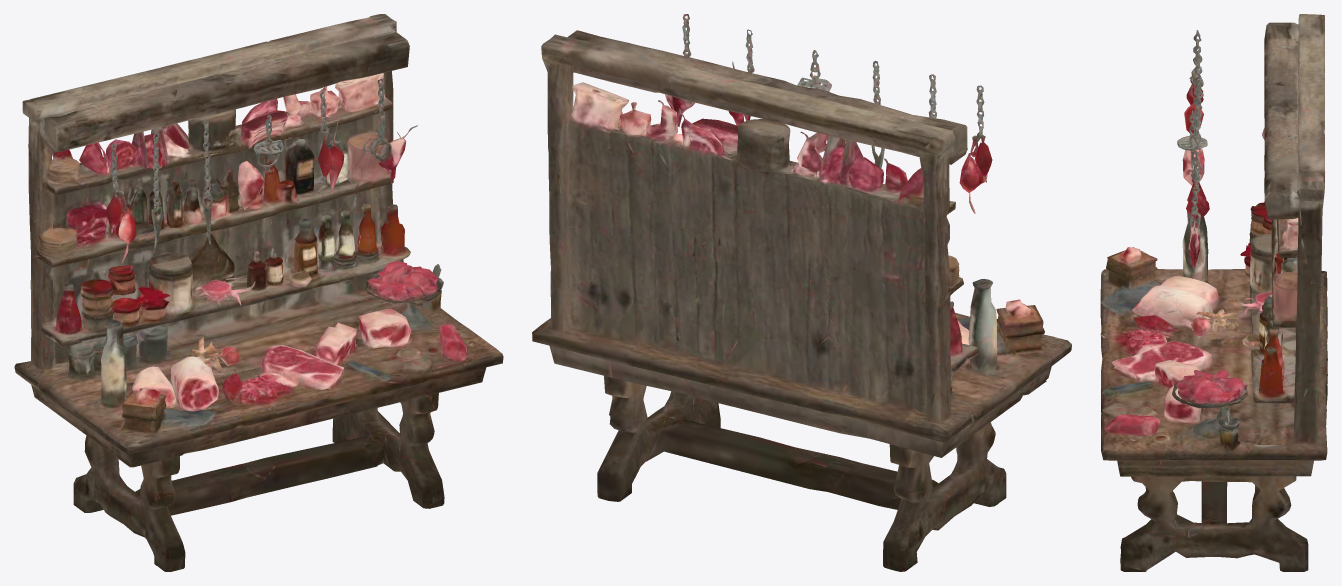
The model's file is butcher.glb.
3 views of the same model, side by side, from view 1: azimuth 30°, elevation 25°; view 2: azimuth 150°, elevation 25°; view 3: azimuth 270°, elevation 25° (orthographic). The views are drawn at different scales.
Visible parts, largest first — view 1: Object_5; view 2: Object_5; view 3: Object_5.
Part boxes in pixels (x1,y1,x2,y2): Object_5: (14, 14, 503, 571); Object_5: (532, 14, 1071, 571); Object_5: (1100, 14, 1327, 571).
Bounding box in the file's own units: 1.85 × 1.9 × 0.9706.
Materials: 1 (1 with a texture image).
